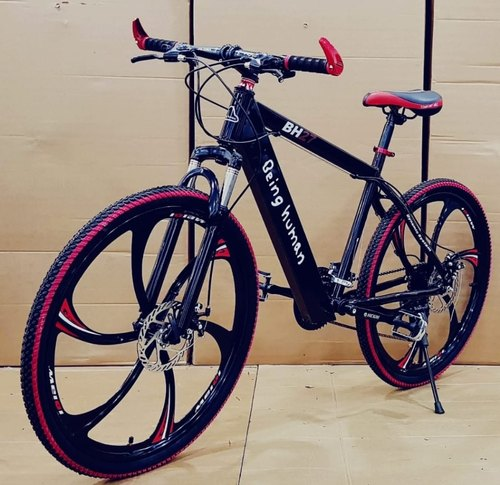cycle: (13, 17, 492, 476)
